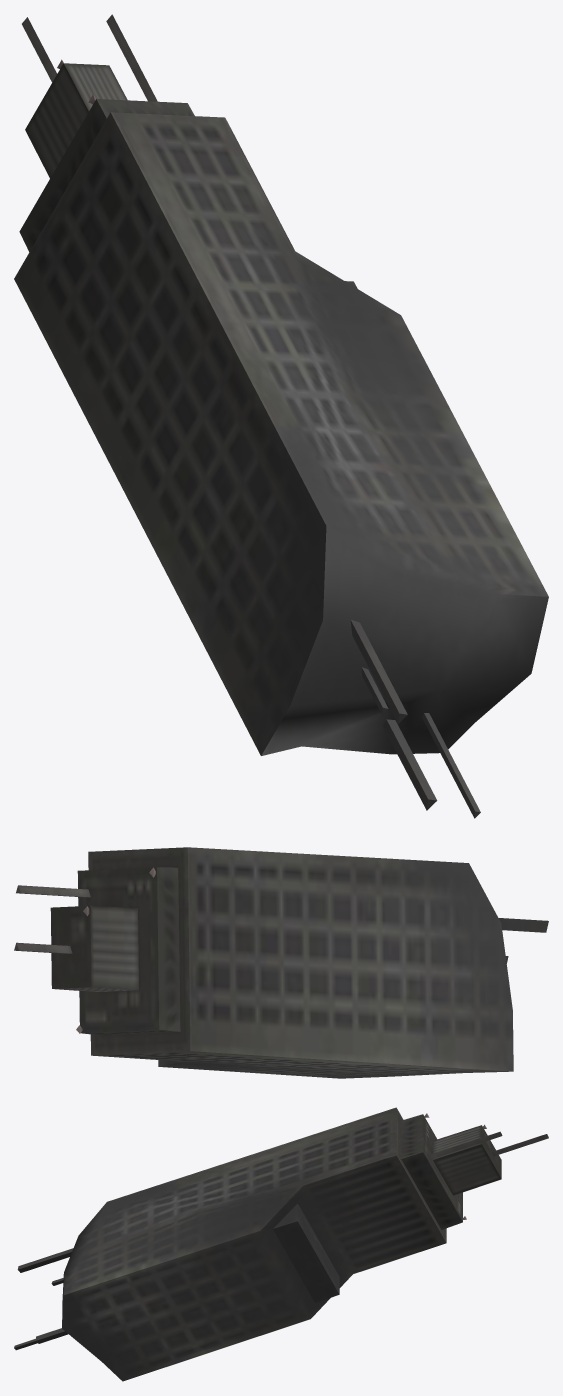
The model's file is skyBuildingAAB_pos_grp (1).fbx.
3 views of the same model, one above another, from view 1: azimuth 30°, elevation 25°; view 2: azimuth 150°, elevation 25°; view 3: azimuth 270°, elevation 25° (orthographic). The views are drawn at different scales.
Visible parts, largest first — view 1: skyBuildingAAB_geo; view 2: skyBuildingAAB_geo; view 3: skyBuildingAAB_geo.
Part boxes in pixels (x1=…): skyBuildingAAB_geo: x1=14, y1=14, x2=548, y2=818; skyBuildingAAB_geo: x1=14, y1=847, x2=548, y2=1078; skyBuildingAAB_geo: x1=14, y1=1107, x2=548, y2=1381.
Size of the model in its own units: 3.94 by 6.49 by 12.33.
